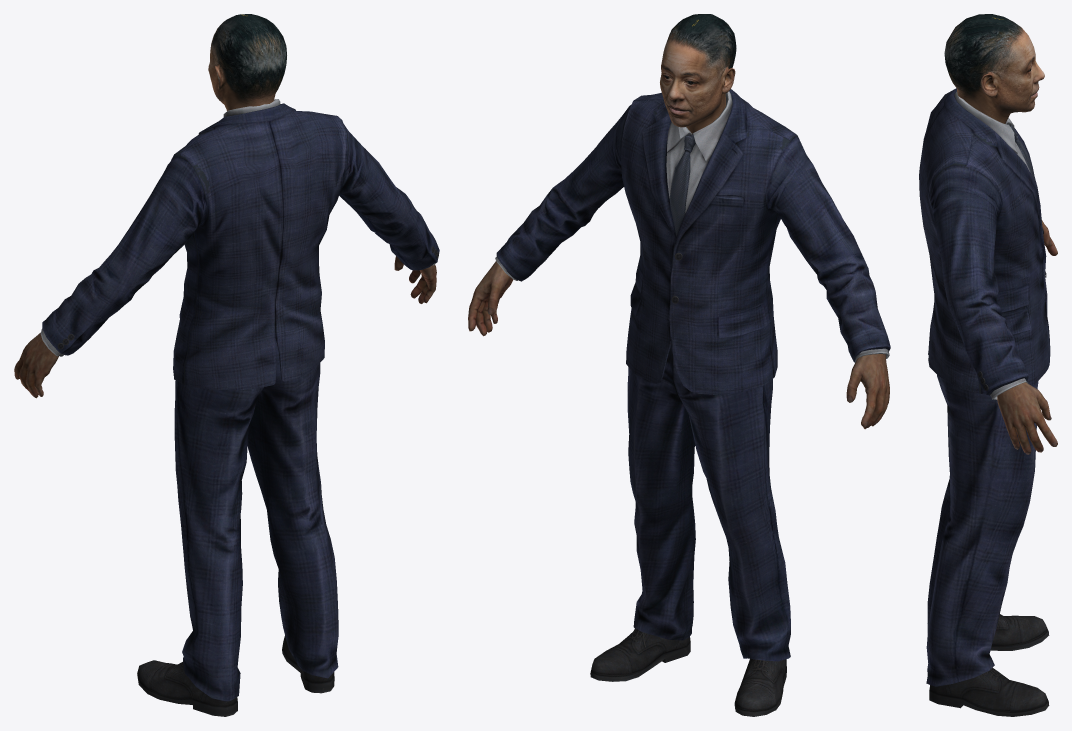
The model's file is gustavo_fring_breaking_bad_giancarlo_esposito.glb.
3 renders of one model, left to right at view 1: azimuth 30°, elevation 25°; view 2: azimuth 150°, elevation 25°; view 3: azimuth 270°, elevation 25°, orthographic.
Visible parts, largest first — view 1: Guss Body.001, Guss Head; view 2: Guss Body.001, Guss Head; view 3: Guss Body.001, Guss Head.
Boxes of the visible parts, x1,y1,x2,y2 form: Guss Body.001: (14, 99, 439, 716); Guss Head: (208, 14, 286, 110); Guss Body.001: (468, 89, 890, 716); Guss Head: (660, 14, 736, 133); Guss Body.001: (919, 88, 1057, 716); Guss Head: (944, 14, 1044, 123).
Bounding box in the file's own units: 1.16 × 1.8 × 0.3447.
Materials: 2 (2 with a texture image).
